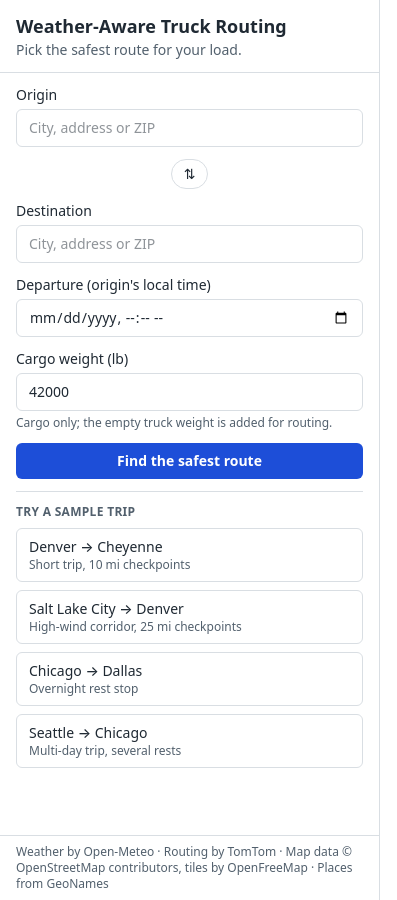
Test: App › reopens the form and shows the message when the search fails
Click the button "Denver → Cheyenne Short trip, 10 mi checkpoints" at {"x": 190, "y": 555}, box x1=16 y1=528 x2=363 y2=582
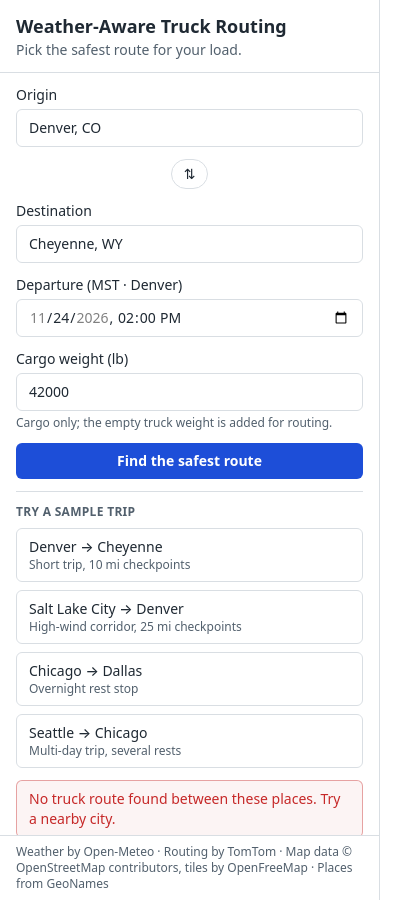
Expected: the text "No truck route found between these places" is shown, x1=29 y1=789 x2=340 y2=828
